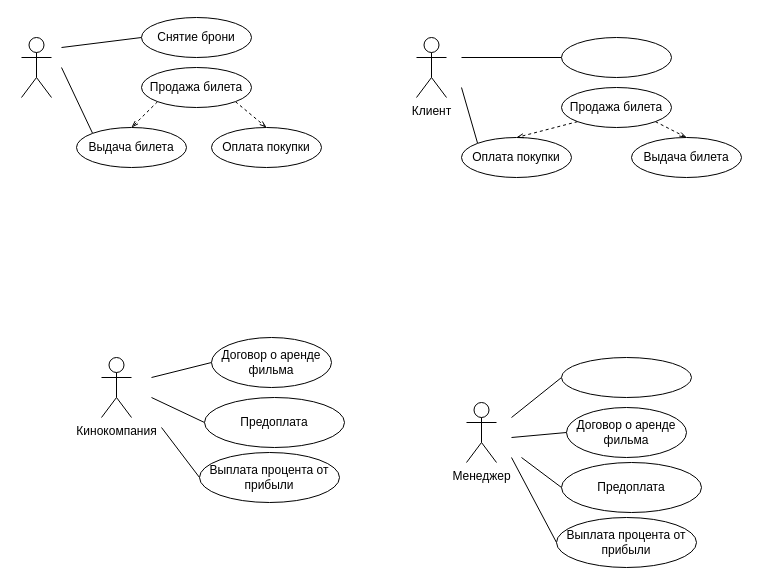
The diagram is 759 pixels wide and 585 high, and some of its shapes have lost their labels. The shapes that lost their labels are listed below. From the top down, each one's box as (x1, y1, x2, y2) in pixels, then its label:
(20, 36, 52, 98): Кассир
(560, 36, 672, 78): Установка брони
(560, 356, 692, 398): Запрос о наличии фильма
